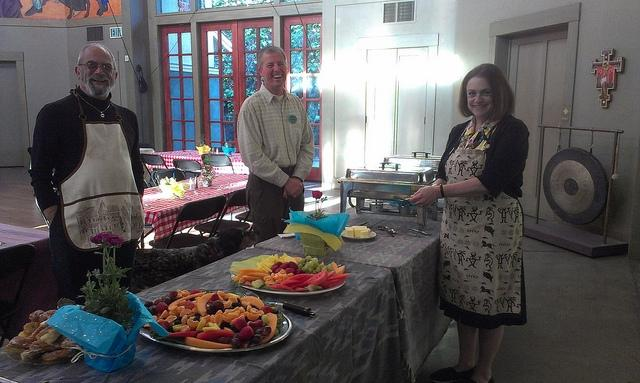strawberry: (196, 329, 234, 341), (237, 326, 254, 340), (233, 318, 248, 332), (206, 294, 220, 309), (156, 302, 168, 313), (260, 306, 274, 314), (184, 300, 194, 310), (248, 320, 262, 327), (284, 268, 296, 274)
